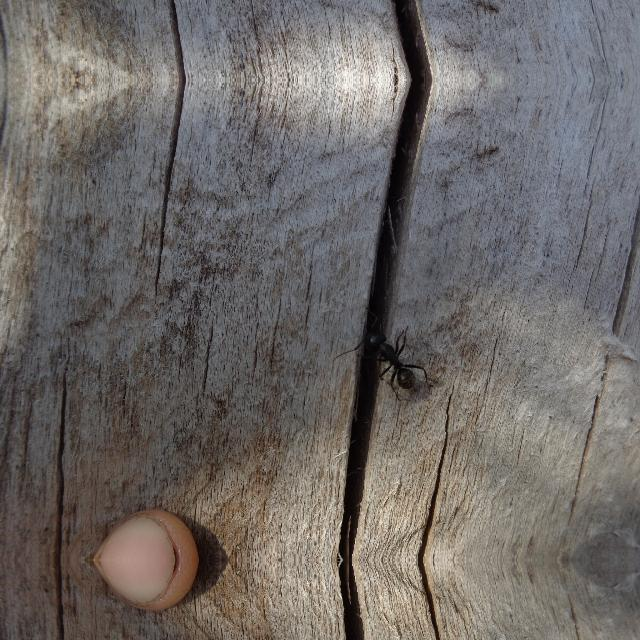Camponotus: (346, 309, 428, 393)
